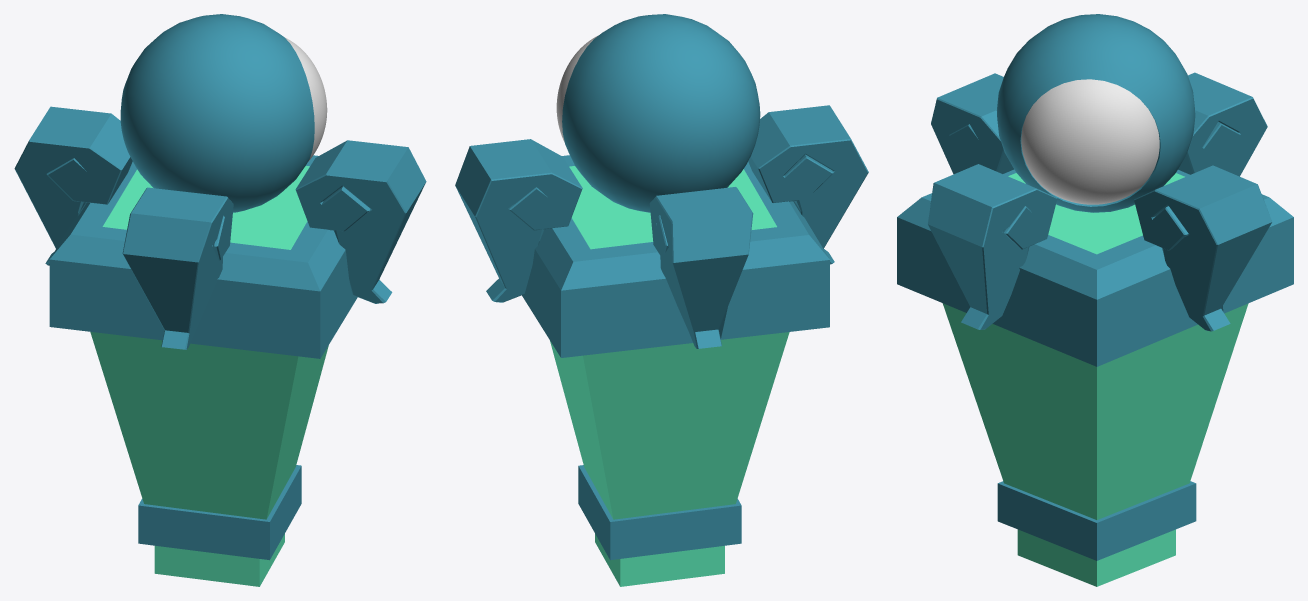
The model's file is Torreta Genshin.fbx.
3 renders of one model, left to right at view 1: azimuth 30°, elevation 25°; view 2: azimuth 150°, elevation 25°; view 3: azimuth 270°, elevation 25°, orthographic.
Parts seen in each view (by area): view 1: Base; view 2: Base; view 3: Base.
Part boxes in pixels (x1=…): Base: x1=14, y1=14, x2=426, y2=586; Base: x1=455, y1=14, x2=868, y2=586; Base: x1=897, y1=14, x2=1293, y2=586.
Size of the model in its own units: 261 by 391 by 265.
